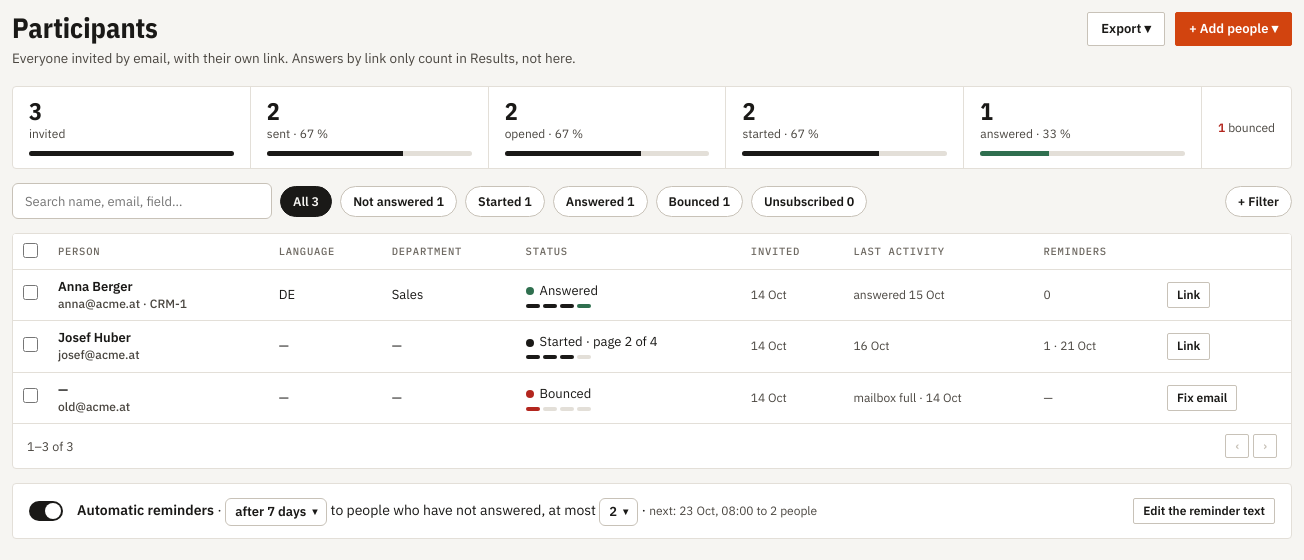
Test case: Participants page (W35 a) › puts the automatic reminders in one sentence and the field filter's count by the pager
Expected: the button named "Automatic reminders after 7 days" is shown, [225,498,327,526]
Expected: the text "next: 23 Oct, 08:00 to 2 people" is shown, [649,503,817,518]
Click the button "+ Filter": coordinates (1258, 201) [1225,186,1292,216]
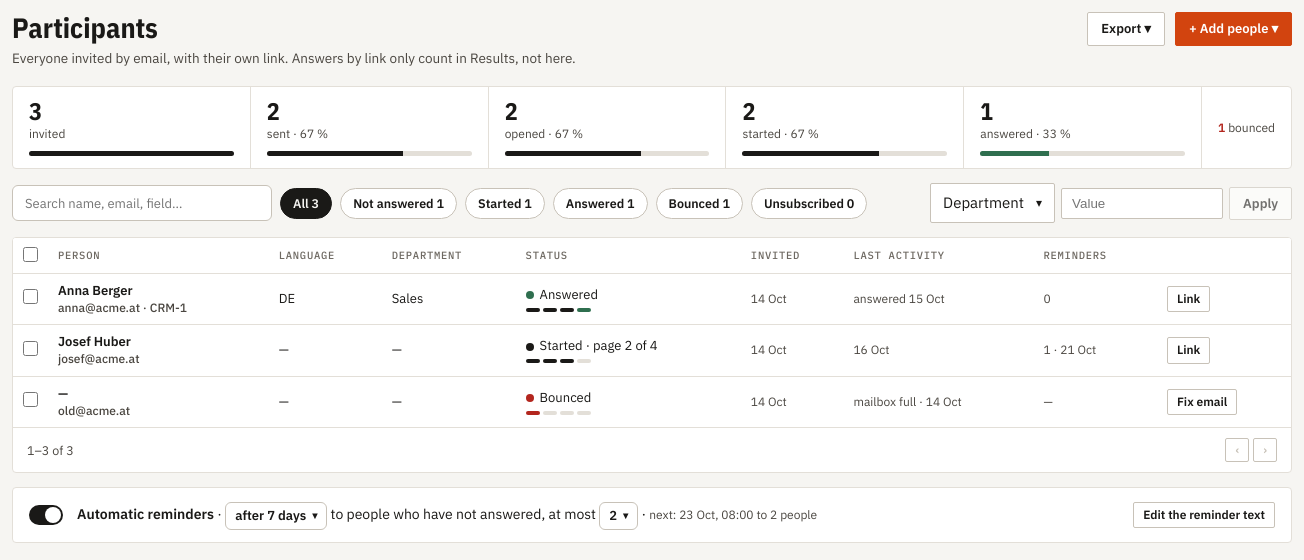
In the field labelled "Value": coordinates (1142, 203) [1061,188,1223,219], type "Sales"
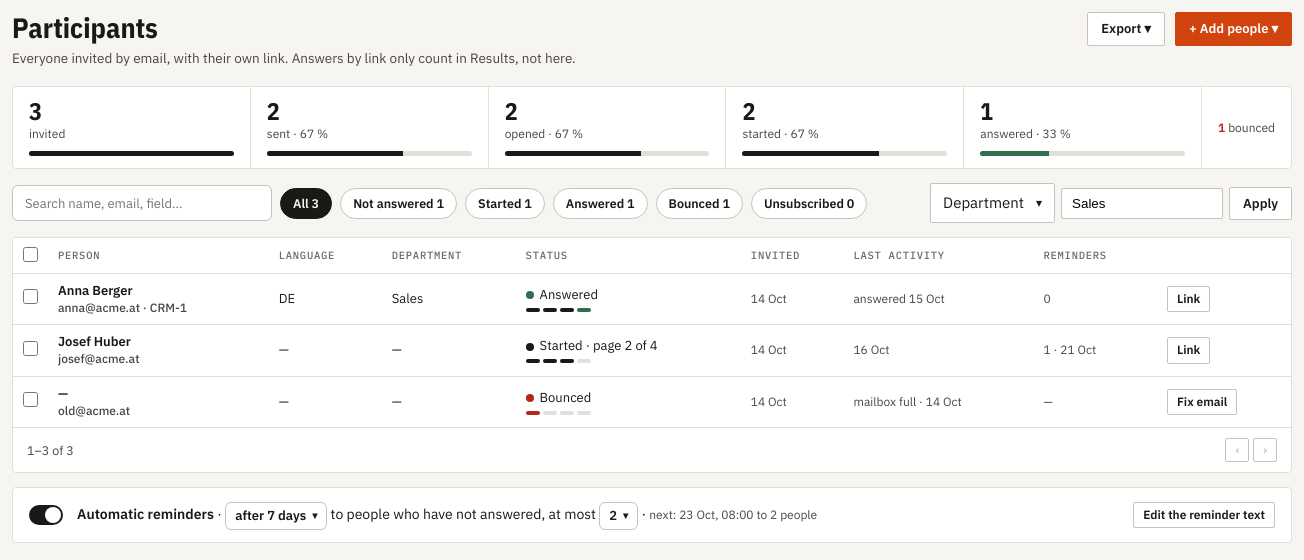
Click the button "Apply": coordinates (1261, 203) [1229,187,1292,220]
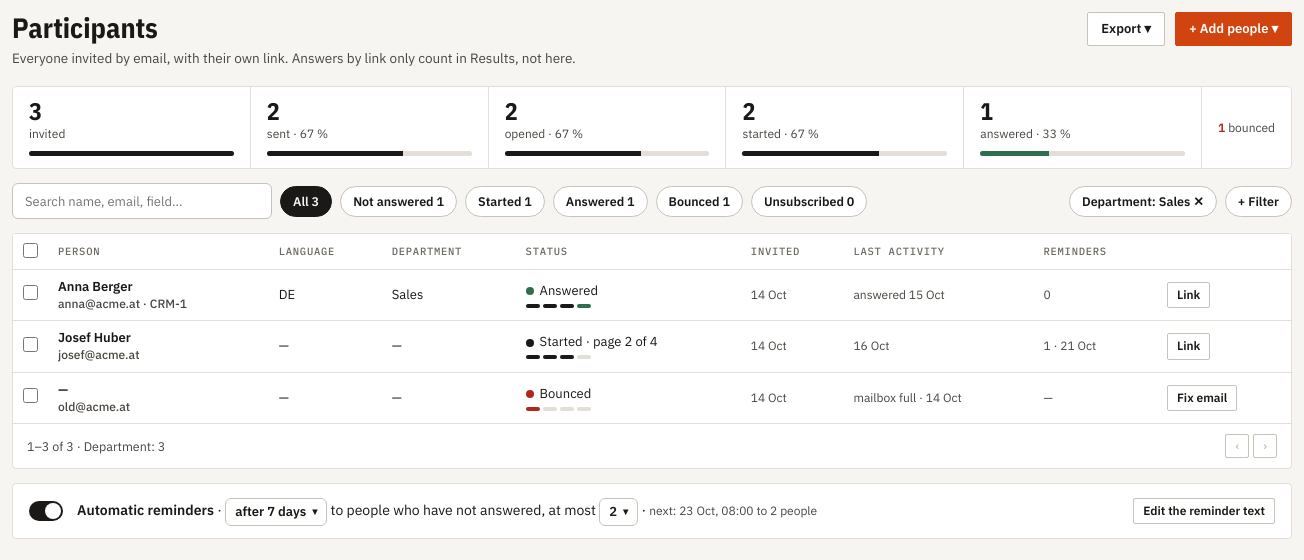
Result: the text "1–3 of 3 · Department: 3" is shown at [27,438,165,455]
